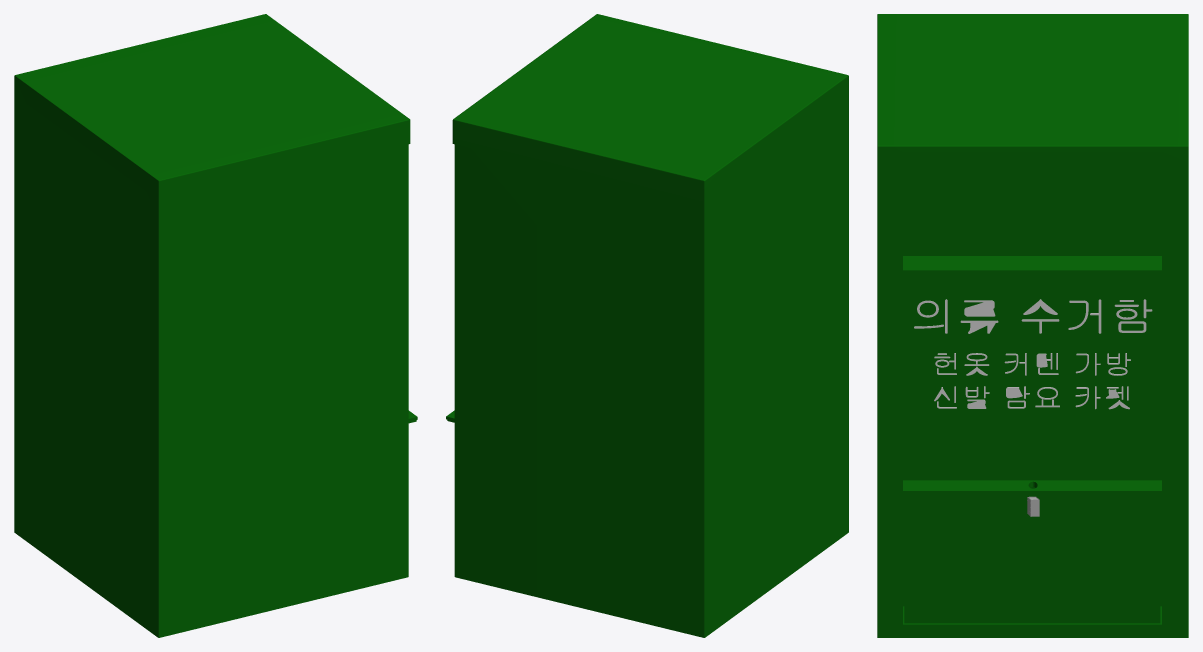
Rendered from 의류 수거함.fbx.
3 renders of one model, left to right at view 1: azimuth 30°, elevation 25°; view 2: azimuth 150°, elevation 25°; view 3: azimuth 270°, elevation 25°, orthographic. The views are drawn at different scales.
Parts seen in each view (by area): view 1: polySurface2; view 2: polySurface2; view 3: polySurface2, polySurface1, typeMesh3, typeMesh1.
Part boxes in pixels (x1,y1,x2,y2): polySurface2: [14, 14, 417, 637]; polySurface2: [446, 14, 848, 637]; polySurface2: [877, 14, 1188, 637]; polySurface1: [904, 484, 1160, 623]; typeMesh3: [934, 353, 1130, 409]; typeMesh1: [914, 299, 1152, 333].
Size of the model in its own units: 12.21 by 18.84 by 10.8.
